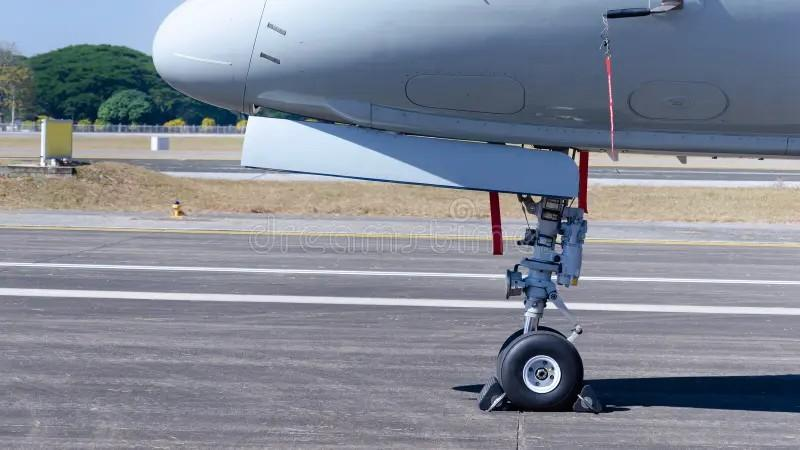chock: (473, 375, 511, 413), (571, 384, 607, 413)
wheel: (493, 324, 585, 413), (498, 324, 569, 359)
